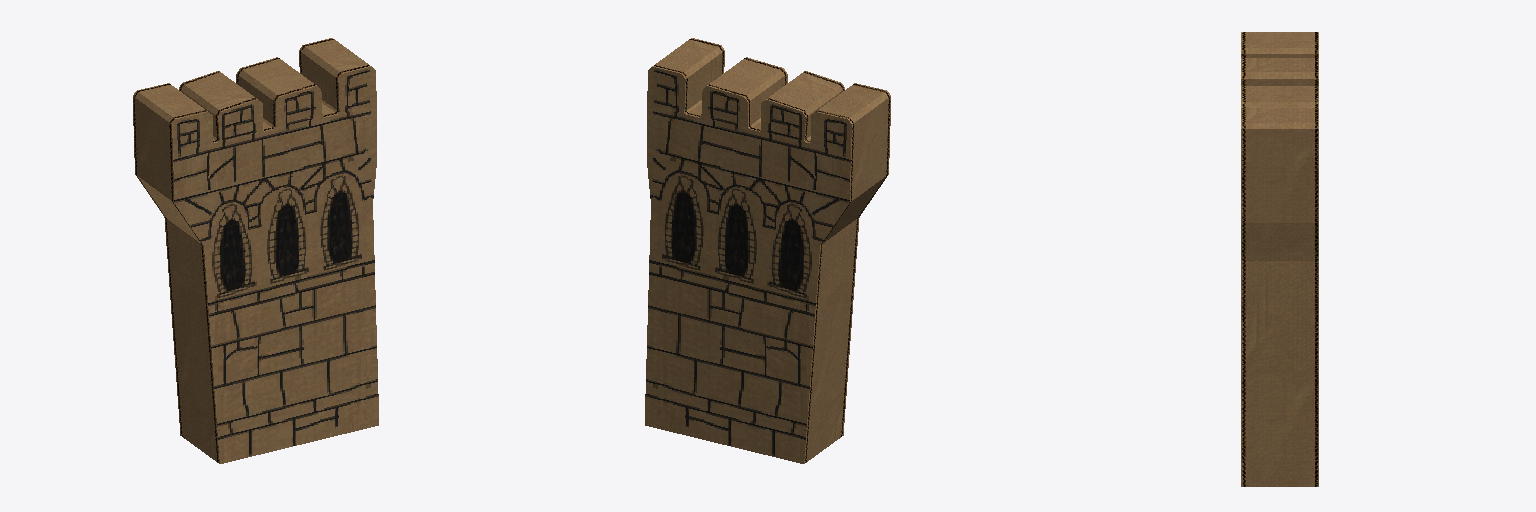
3 views of the same model, side by side, from view 1: azimuth 30°, elevation 25°; view 2: azimuth 150°, elevation 25°; view 3: azimuth 270°, elevation 25° (orthographic).
Visible parts, largest first — view 1: submesh_0; view 2: submesh_0; view 3: submesh_0.
Part boxes in pixels (x1,y1,x2,y2): submesh_0: (133,38,378,463); submesh_0: (645,38,890,463); submesh_0: (1241,32,1318,486).
Size of the model in its own units: 8.77 by 14.59 by 2.89.
Materials: 1 (1 with a texture image).